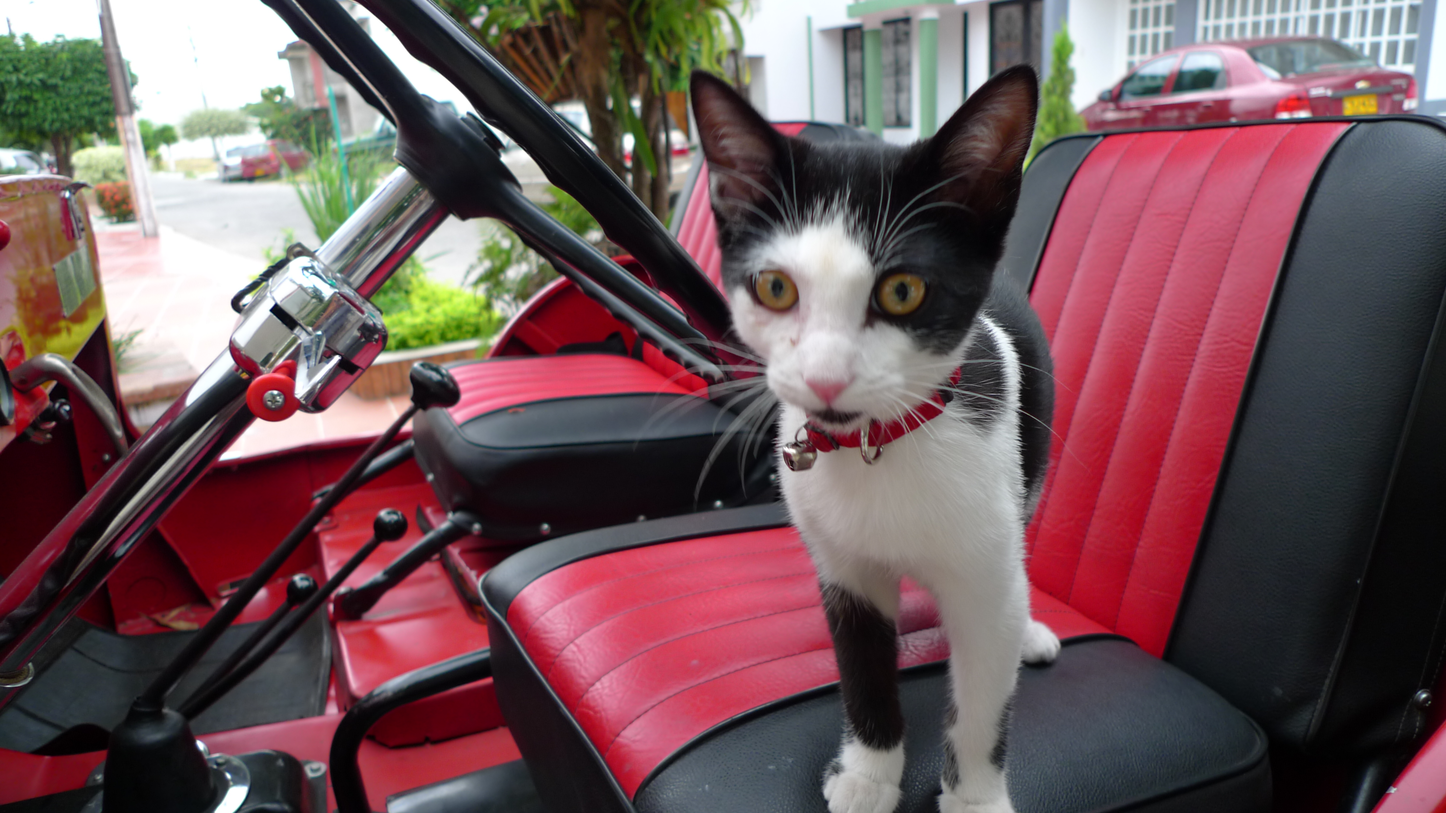cat: (636, 73, 1058, 812)
